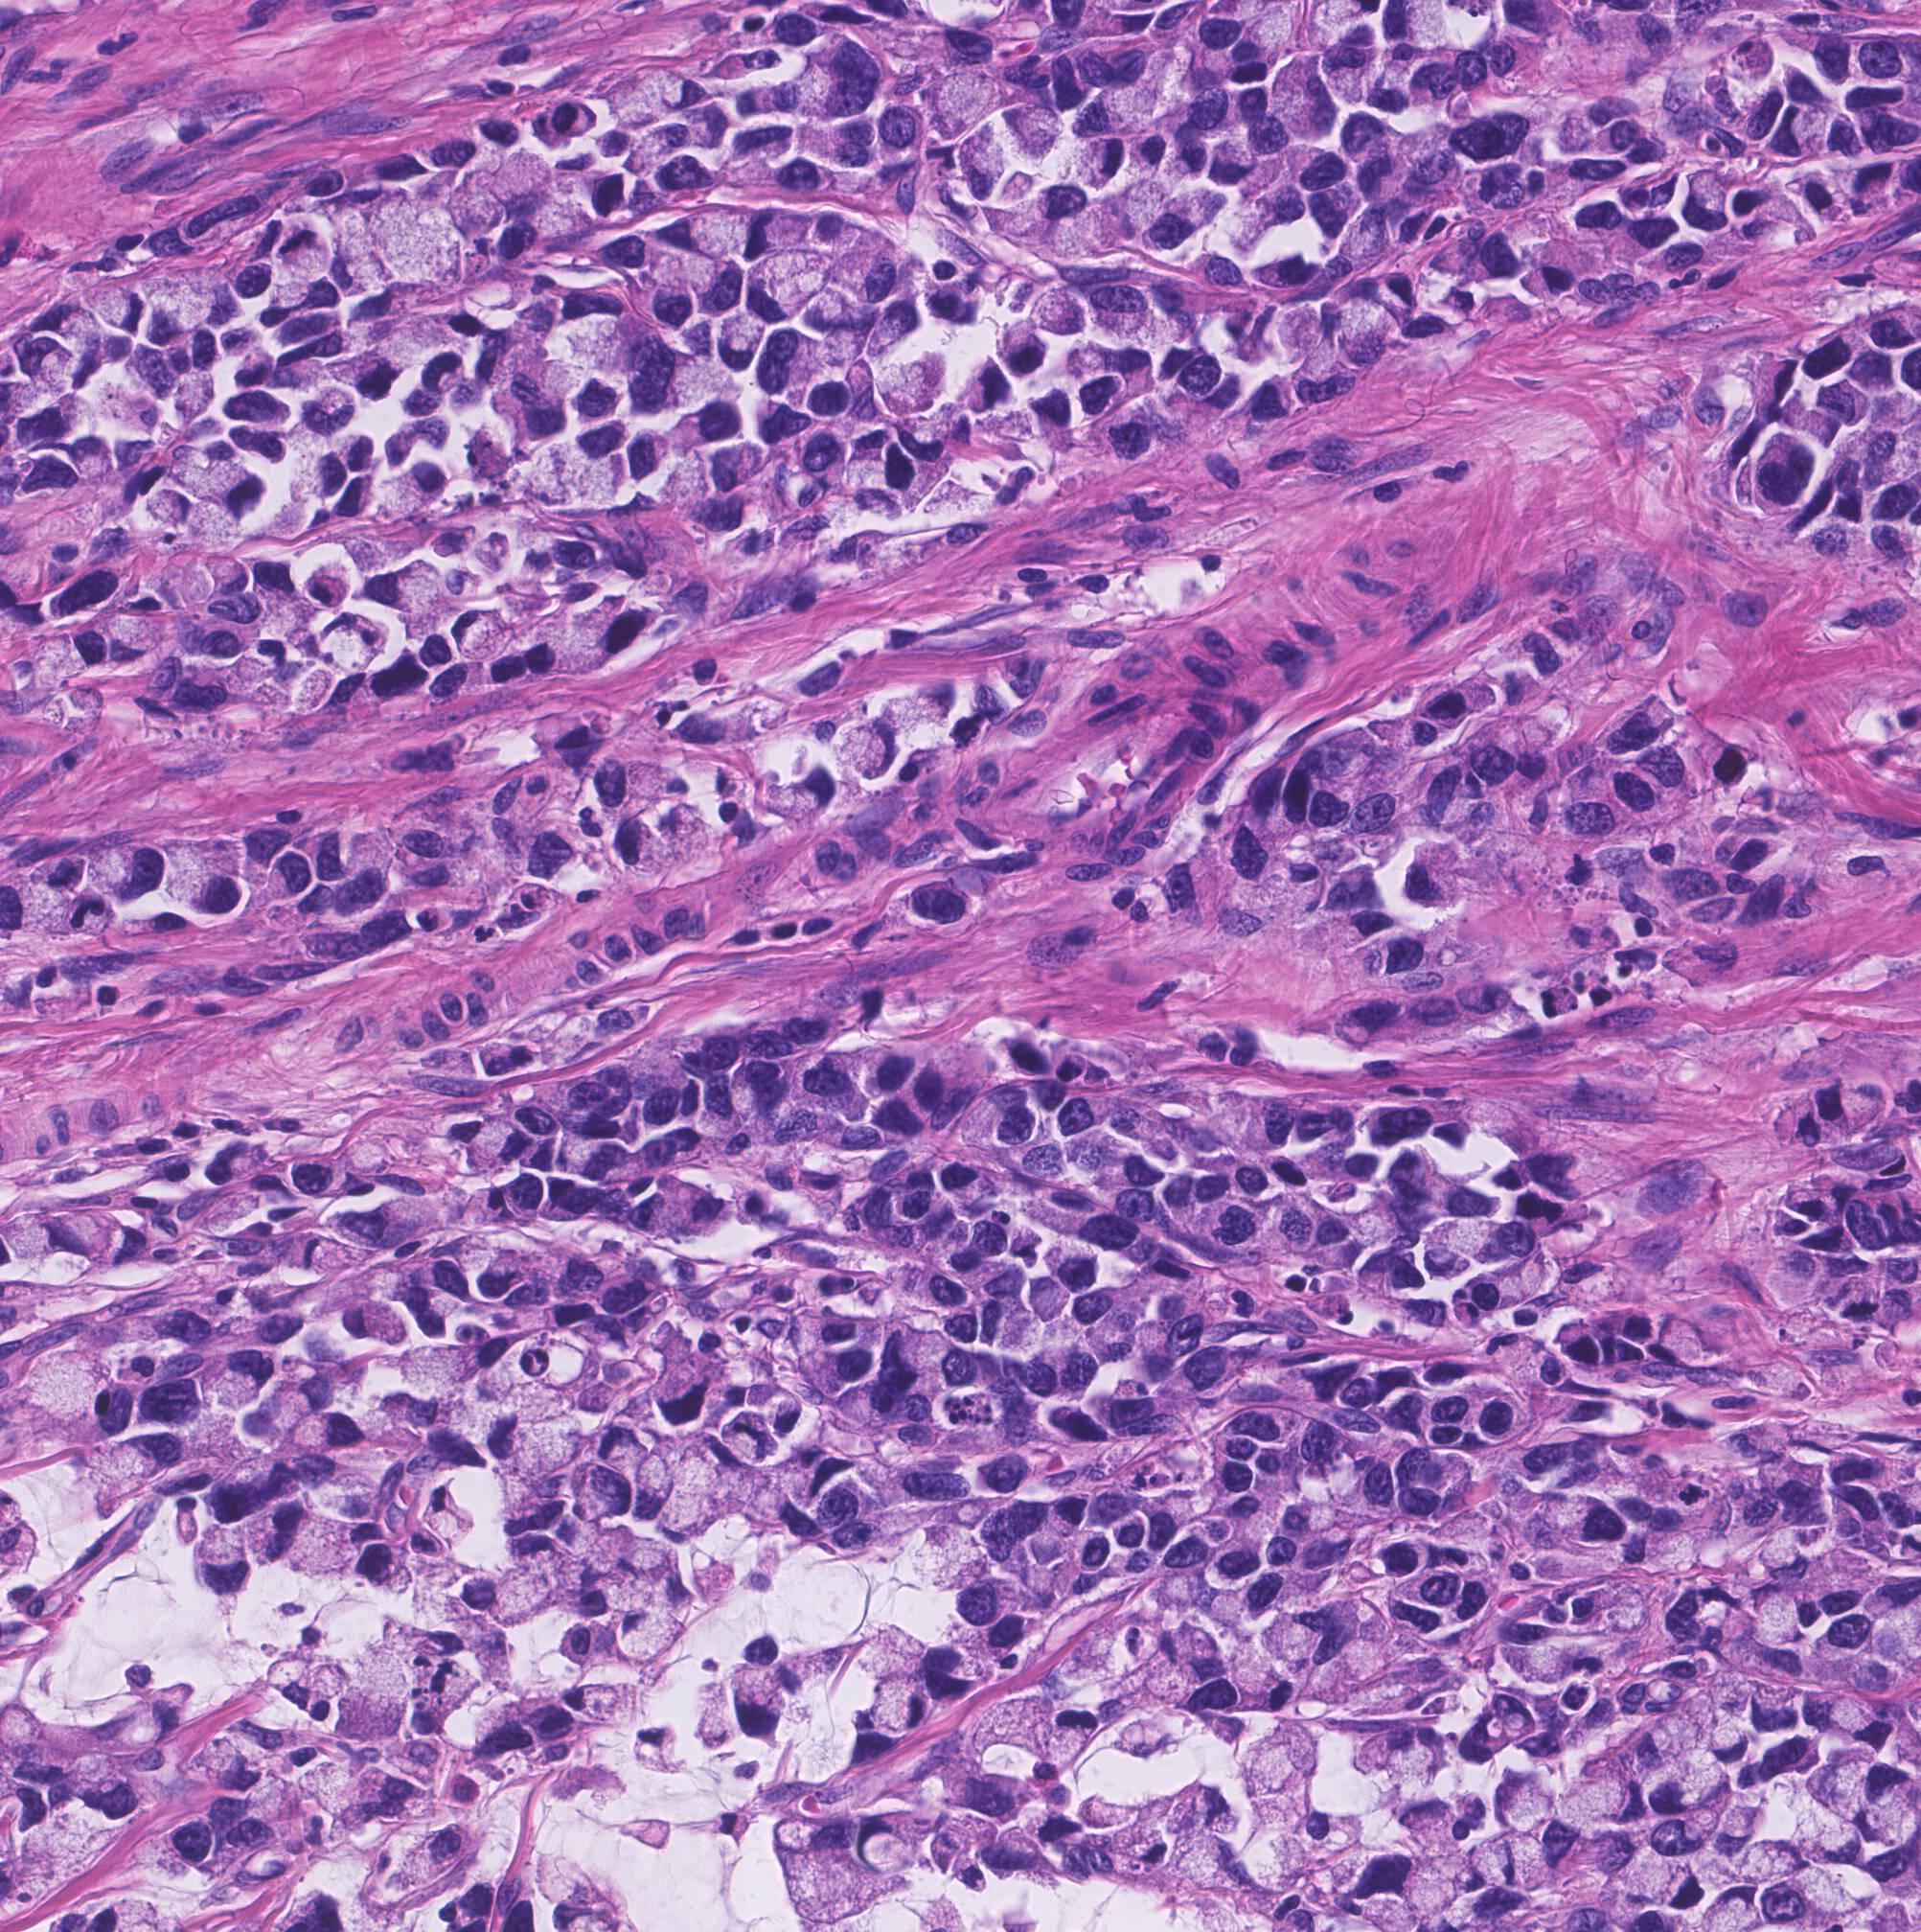ring_cell_cancer: (366, 197, 466, 292), (788, 39, 888, 123), (605, 63, 707, 127), (1268, 53, 1344, 137), (915, 69, 1004, 137), (649, 220, 758, 274), (904, 1522, 990, 1591), (273, 1510, 352, 1582), (79, 1434, 178, 1490), (359, 563, 454, 621), (491, 151, 563, 227), (1402, 829, 1467, 911), (25, 1355, 113, 1415), (797, 116, 887, 174), (176, 843, 243, 920), (1335, 296, 1400, 375), (157, 273, 250, 327), (357, 1645, 412, 1737), (493, 1408, 577, 1466), (1543, 1496, 1627, 1552), (1055, 206, 1145, 257), (1265, 1606, 1348, 1661), (693, 1432, 753, 1506), (524, 445, 584, 519), (1685, 160, 1740, 241), (758, 771, 834, 829), (137, 560, 213, 618), (874, 357, 946, 417), (315, 618, 391, 674), (677, 413, 755, 468), (209, 1350, 274, 1413), (197, 1522, 257, 1591), (405, 303, 491, 350), (647, 795, 705, 866), (340, 354, 410, 412), (658, 1355, 714, 1427), (345, 839, 401, 911), (176, 459, 260, 507), (345, 1295, 410, 1357), (755, 260, 814, 327), (1156, 192, 1231, 245), (829, 252, 904, 304), (712, 313, 771, 382), (1560, 1774, 1643, 1821), (732, 1668, 793, 1731), (1608, 211, 1671, 273), (758, 331, 822, 392), (866, 1626, 936, 1680), (1091, 282, 1154, 341), (1801, 1869, 1884, 1914), (399, 1828, 468, 1883), (1019, 283, 1087, 338), (1770, 97, 1824, 165), (294, 1408, 375, 1453), (378, 465, 452, 514), (464, 1578, 547, 1622), (7, 340, 77, 391), (883, 1327, 943, 1387), (746, 202, 807, 260), (501, 1482, 573, 1531), (93, 276, 158, 331), (1715, 37, 1780, 91), (1402, 137, 1457, 202), (1495, 1833, 1562, 1886), (1536, 232, 1589, 299), (1045, 1703, 1096, 1772), (1300, 347, 1362, 403), (885, 683, 960, 728), (1391, 1802, 1458, 1853), (980, 326, 1048, 375), (843, 725, 902, 781), (609, 813, 661, 876), (63, 438, 127, 491), (157, 1819, 223, 1869), (966, 125, 1006, 206), (1179, 1835, 1237, 1892), (573, 1464, 632, 1520), (617, 1608, 679, 1661), (1571, 1594, 1645, 1638), (853, 1819, 917, 1870), (107, 602, 157, 667), (1824, 1696, 1891, 1744), (401, 1343, 468, 1390), (463, 431, 517, 489), (468, 1622, 521, 1682), (297, 378, 359, 429), (1801, 1816, 1865, 1865), (1135, 1656, 1200, 1703), (637, 1730, 693, 1784), (1815, 378, 1872, 433), (204, 1737, 262, 1789), (1003, 99, 1061, 151), (1494, 1777, 1553, 1828), (1502, 1645, 1574, 1687), (728, 1066, 785, 1119), (1358, 155, 1414, 208), (276, 227, 336, 276), (1464, 1218, 1530, 1262), (586, 1422, 653, 1466), (839, 1376, 901, 1423), (95, 853, 167, 894), (874, 1680, 931, 1731), (517, 385, 573, 436), (7, 1225, 72, 1269), (1805, 1767, 1863, 1816), (281, 1233, 352, 1274), (297, 1448, 361, 1492), (195, 542, 248, 595), (102, 384, 155, 436), (1238, 1663, 1293, 1714), (1838, 1077, 1888, 1133), (433, 1663, 482, 1719), (1034, 394, 1080, 454), (1143, 1323, 1187, 1385), (545, 1175, 596, 1228), (1870, 1758, 1919, 1812), (1282, 150, 1355, 187), (35, 303, 93, 348), (1404, 1730, 1455, 1781), (1650, 1313, 1701, 1364), (1437, 1849, 1490, 1899), (1659, 1772, 1729, 1809), (1752, 1596, 1805, 1645), (86, 1221, 148, 1263), (347, 1207, 417, 1244), (554, 88, 603, 141), (259, 1656, 315, 1701), (4, 1781, 49, 1837), (621, 132, 681, 174), (190, 501, 239, 553), (1080, 134, 1129, 185), (1214, 135, 1261, 188), (994, 1828, 1048, 1874), (1047, 1244, 1101, 1290), (1838, 1279, 1882, 1336), (1476, 732, 1518, 790), (1766, 1538, 1815, 1587), (456, 609, 505, 658), (1253, 1745, 1300, 1797), (1750, 1835, 1801, 1883), (271, 853, 318, 904), (1288, 306, 1335, 357), (1256, 260, 1321, 297), (1773, 1248, 1815, 1304), (1541, 1218, 1597, 1260), (1189, 1788, 1240, 1833), (1763, 1362, 1814, 1408), (1087, 1320, 1131, 1372), (630, 1462, 668, 1522), (480, 1123, 535, 1165), (616, 1541, 672, 1582), (809, 1351, 866, 1392), (1555, 1323, 1604, 1369), (1705, 1721, 1756, 1765), (1731, 1425, 1791, 1462), (311, 1761, 350, 1818), (199, 1197, 264, 1230), (1573, 1643, 1622, 1687), (1108, 350, 1156, 394), (1119, 1719, 1175, 1756), (1724, 1811, 1764, 1862), (568, 1682, 621, 1721), (1117, 1830, 1172, 1867), (732, 1415, 772, 1464), (628, 1197, 677, 1237), (510, 1538, 566, 1573), (1794, 1422, 1847, 1459), (1666, 1869, 1710, 1913), (1712, 1670, 1754, 1716), (1770, 1100, 1815, 1142), (144, 491, 190, 533), (72, 1754, 113, 1802), (563, 1582, 610, 1622), (354, 1770, 413, 1802), (232, 347, 274, 391), (1594, 1835, 1640, 1876), (1078, 1795, 1136, 1826), (1416, 1248, 1472, 1279), (697, 1694, 730, 1747), (1780, 1184, 1830, 1219), (1289, 1504, 1340, 1538), (1036, 1274, 1073, 1320), (1622, 1865, 1669, 1900), (1538, 991, 1590, 1022), (1202, 1589, 1249, 1624), (771, 1818, 820, 1851), (208, 1151, 259, 1182), (433, 1490, 468, 1536), (306, 1665, 345, 1703), (1476, 1269, 1515, 1307), (1349, 1740, 1390, 1777), (306, 574, 348, 609), (554, 1628, 603, 1658), (464, 1188, 503, 1225), (475, 1367, 512, 1404), (1012, 1228, 1047, 1265), (767, 1397, 804, 1432), (1187, 1624, 1221, 1663), (716, 1812, 756, 1841), (176, 1499, 199, 1548), (1048, 1494, 1078, 1531), (410, 1527, 445, 1555)
